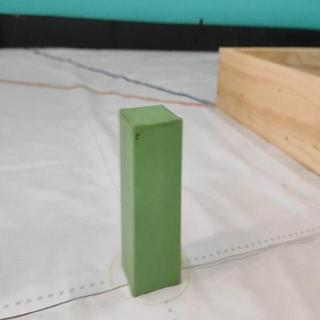greenbox: (118, 101, 184, 299)
